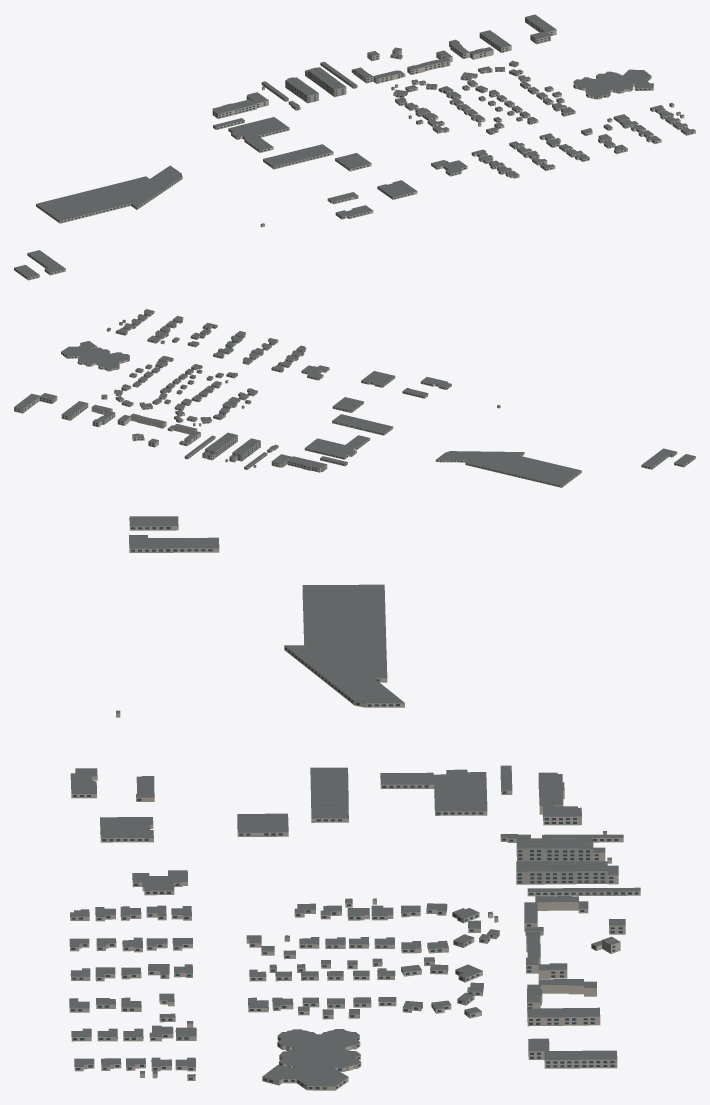
3 views of the same model, one above another, from view 1: azimuth 30°, elevation 25°; view 2: azimuth 150°, elevation 25°; view 3: azimuth 270°, elevation 25° (orthographic). The views are drawn at different scales.
Parts seen in each view (by area): view 1: Buildings (-1, -10) Roof membrane, Buildings (-1, -10) Masonry brick, Buildings (-1, -10) Architectural tinted glass, Buildings (-1, -10) Metal coping, Buildings (-1, -10) Architectural concrete; view 2: Buildings (-1, -10) Roof membrane, Buildings (-1, -10) Masonry brick, Buildings (-1, -10) Architectural tinted glass, Buildings (-1, -10) Metal coping, Buildings (-1, -10) Architectural concrete; view 3: Buildings (-1, -10) Roof membrane, Buildings (-1, -10) Masonry brick, Buildings (-1, -10) Architectural tinted glass, Buildings (-1, -10) Metal coping, Buildings (-1, -10) Architectural concrete.
Boxes of the visible parts, x1,y1,x2,y2 form: Buildings (-1, -10) Roof membrane: (14,14,695,277); Buildings (-1, -10) Masonry brick: (14,17,695,280); Buildings (-1, -10) Architectural tinted glass: (14,18,692,279); Buildings (-1, -10) Metal coping: (14,15,692,277); Buildings (-1, -10) Architectural concrete: (285,70,346,103); Buildings (-1, -10) Roof membrane: (14,309,695,485); Buildings (-1, -10) Masonry brick: (14,311,695,487); Buildings (-1, -10) Architectural tinted glass: (14,313,693,486); Buildings (-1, -10) Metal coping: (15,309,695,484); Buildings (-1, -10) Architectural concrete: (205,435,260,461); Buildings (-1, -10) Roof membrane: (69,516,640,1086); Buildings (-1, -10) Masonry brick: (69,526,640,1090); Buildings (-1, -10) Architectural tinted glass: (70,518,638,1089); Buildings (-1, -10) Metal coping: (69,516,640,1086); Buildings (-1, -10) Architectural concrete: (516,843,607,884).
Size of the model in its own units: 955 by 11 by 405.
